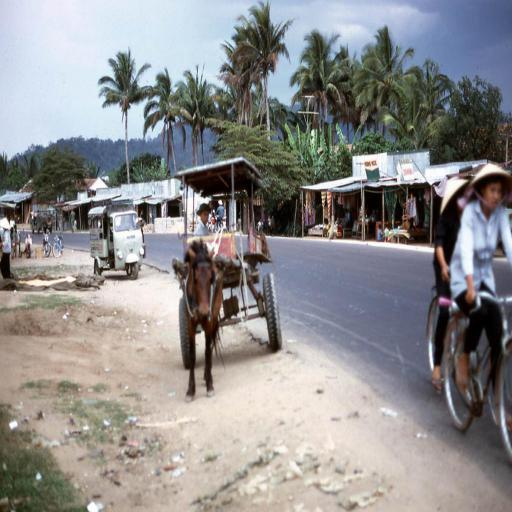horse: (182, 242, 226, 406)
